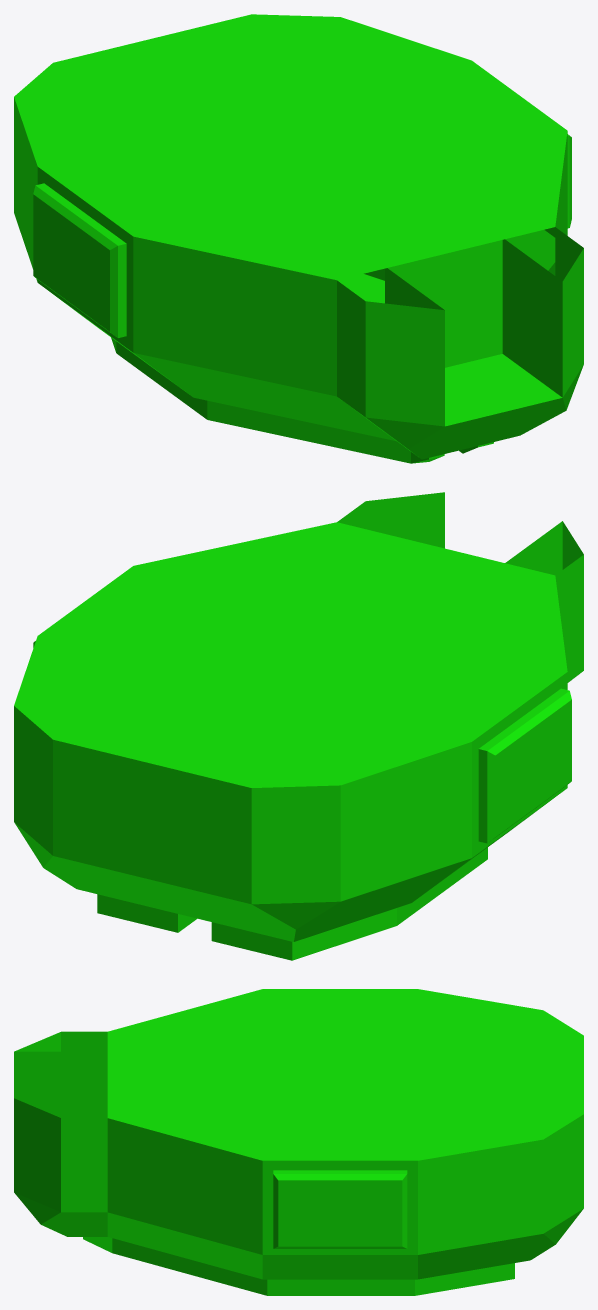
The picture shows the model from 3 angles, top to bottom: view 1: azimuth 30°, elevation 25°; view 2: azimuth 150°, elevation 25°; view 3: azimuth 270°, elevation 25°; orthographic projection. The views are drawn at different scales.
Parts seen in each view (by area): view 1: Cube; view 2: Cube; view 3: Cube.
Part boxes in pixels (bbox=[...]): Cube: bbox=[14, 14, 583, 463]; Cube: bbox=[14, 492, 583, 960]; Cube: bbox=[14, 989, 583, 1295].
Bounding box in the file's own units: 877 × 371 × 1156.
